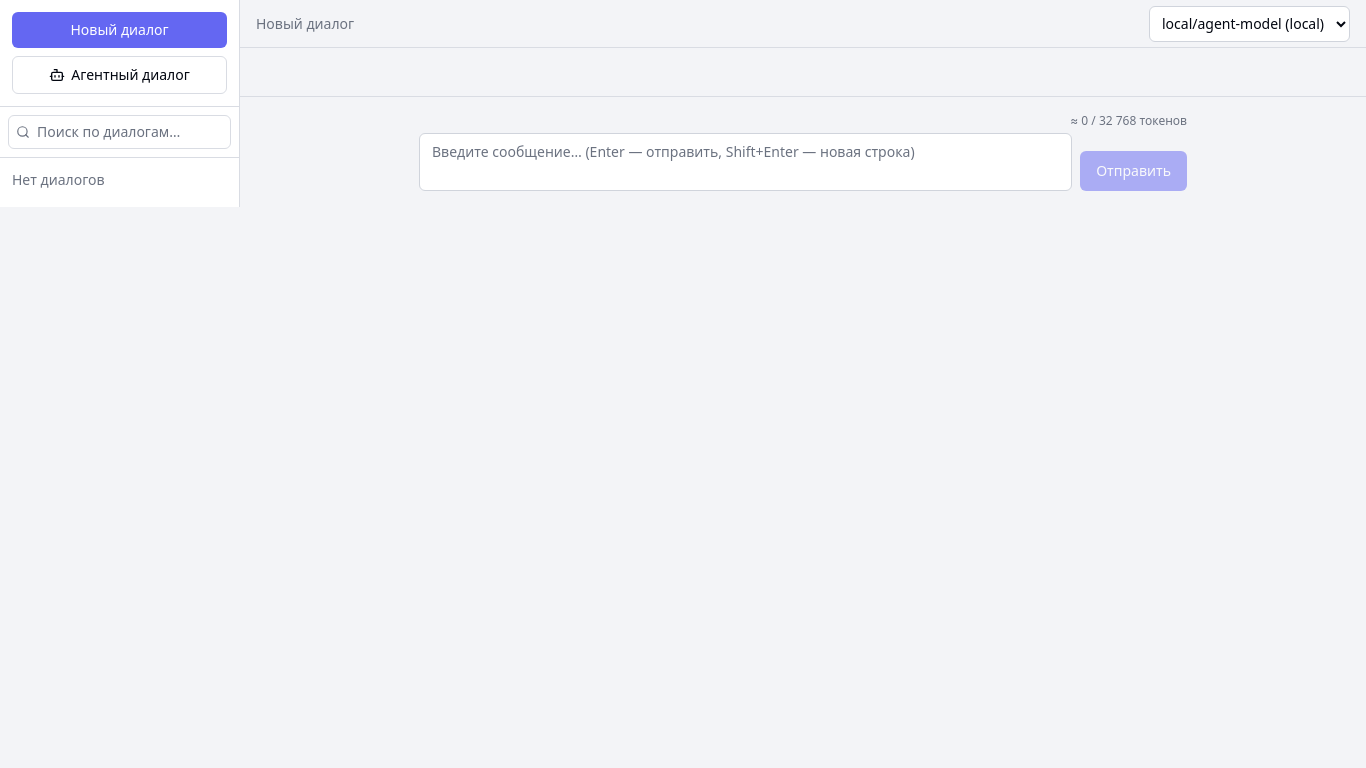
Scenario: Т-502: агентный диалог в ChatPage › отправка в агентном режиме вызывает агентный эндпоинт и показывает шаги
Click the button with test id "new-agent-chat".
click(120, 75)  # box [12,56,227,94]
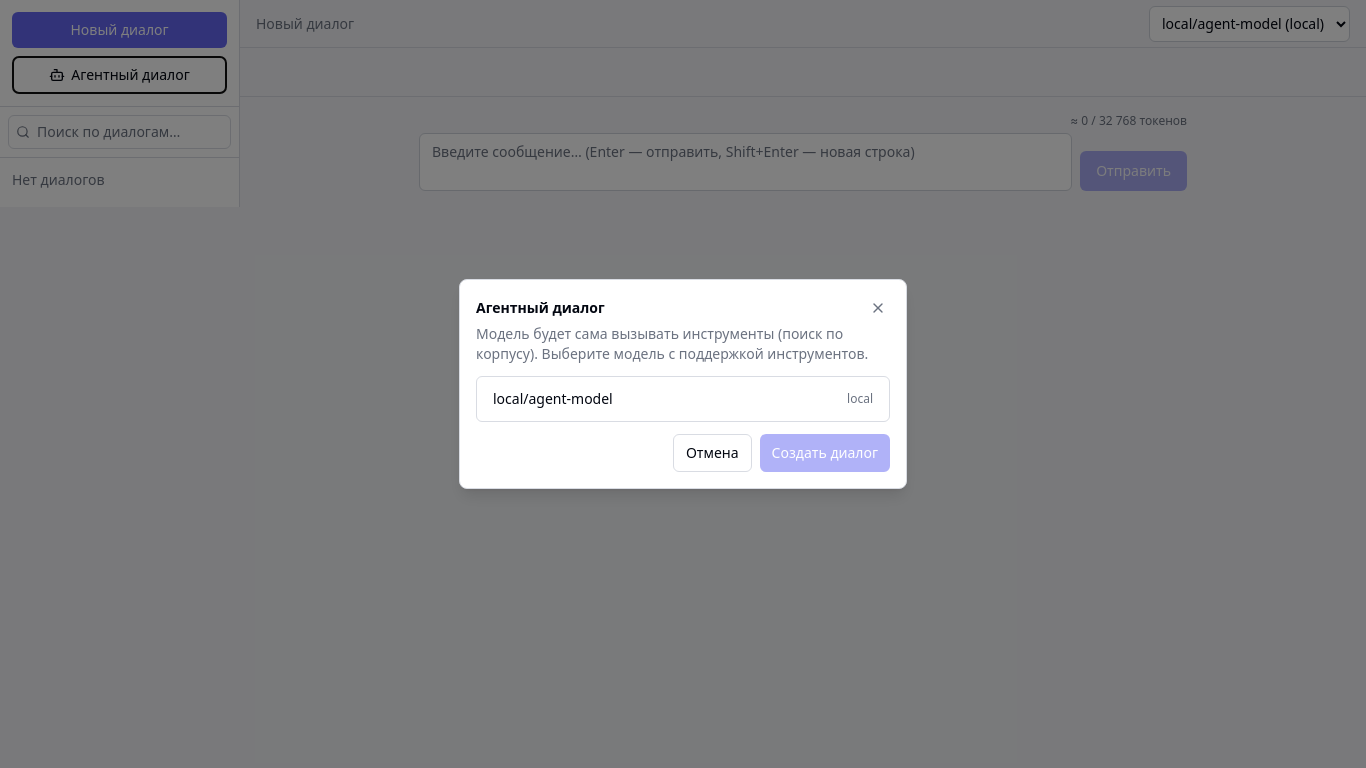
Click the text "local/agent-model".
click(553, 399)  # box [493,389,613,409]
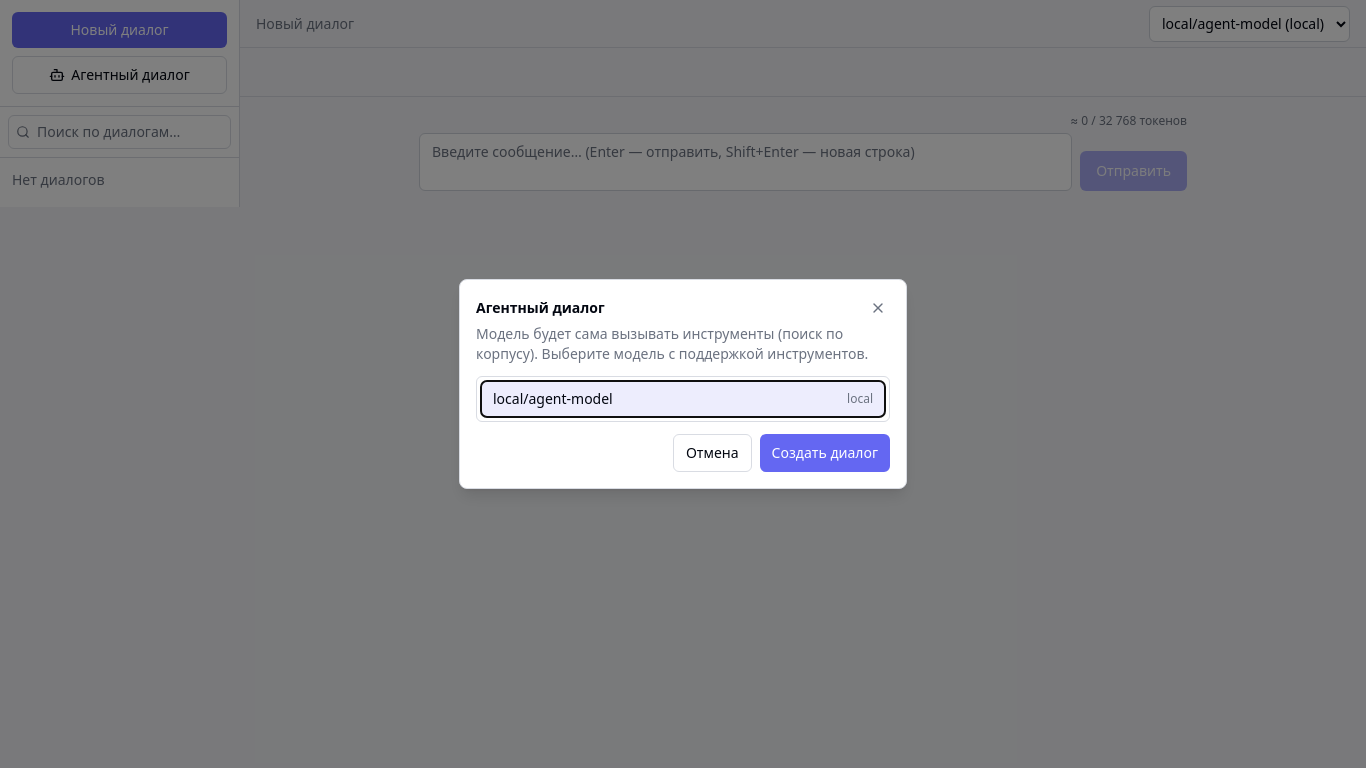
Click the button "Создать диалог".
click(825, 453)  # box [760,434,890,472]
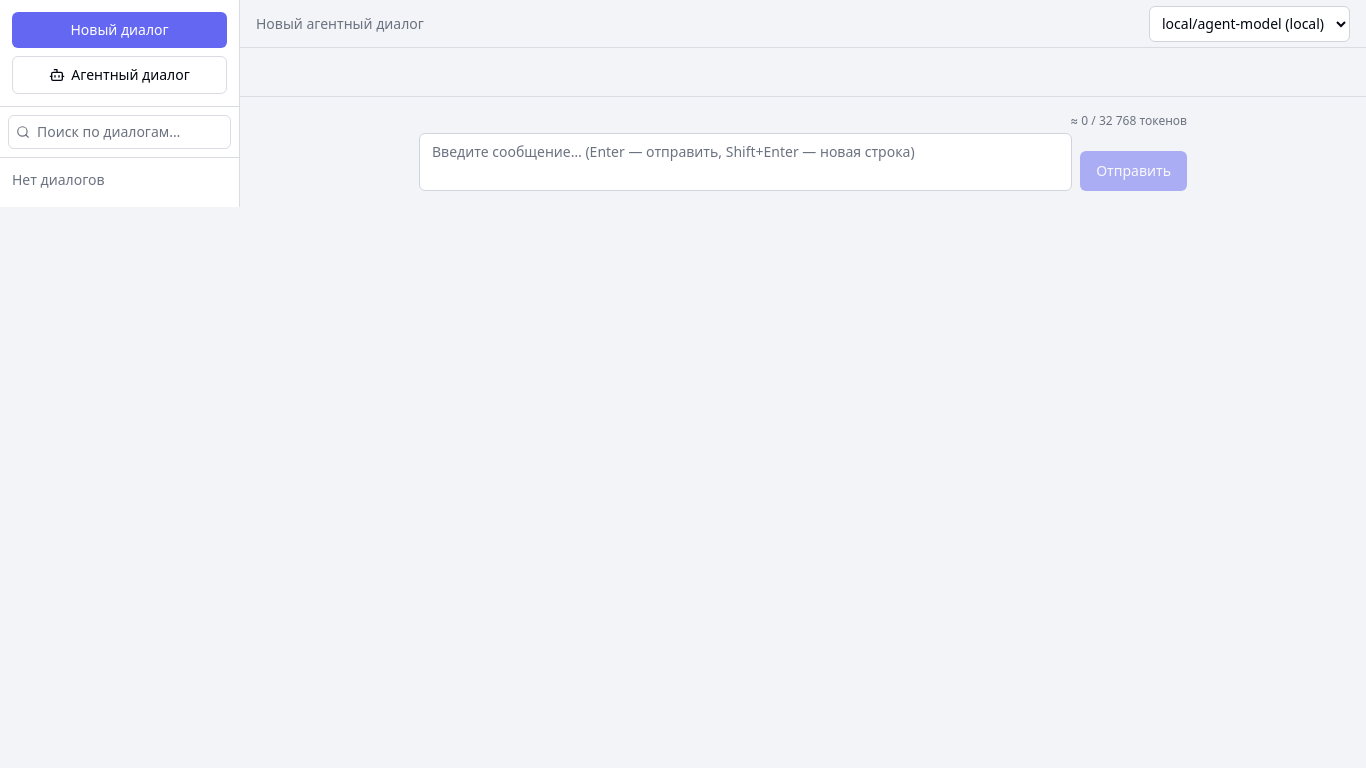
Result: the text "Новый агентный диалог" is shown at [256,14,424,32]
Type "Вопрос по корпусу" into the text box with placeholder "Введите сообщение".
click(746, 162); type("Вопрос по корпусу")  # box [419,133,1072,191]
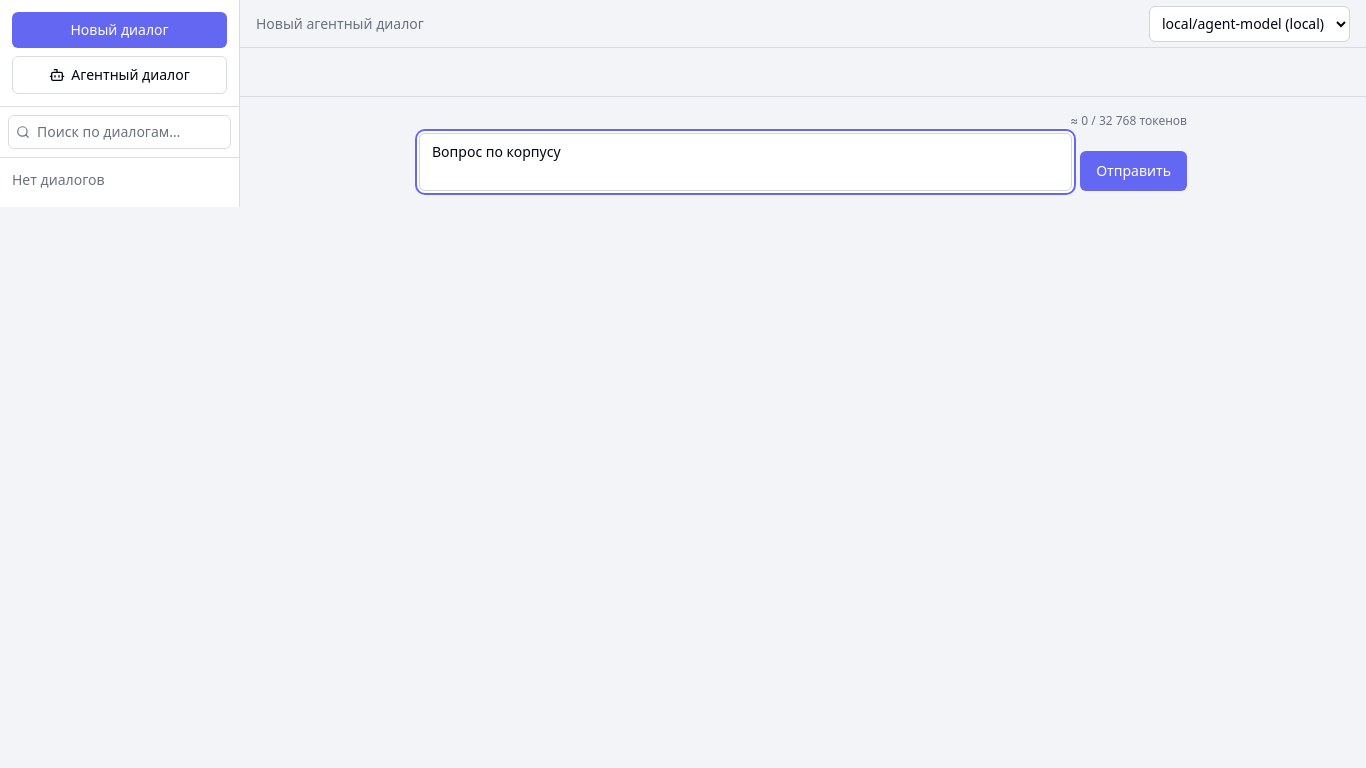
Click the button "Отправить".
click(1134, 171)  # box [1080,151,1187,191]
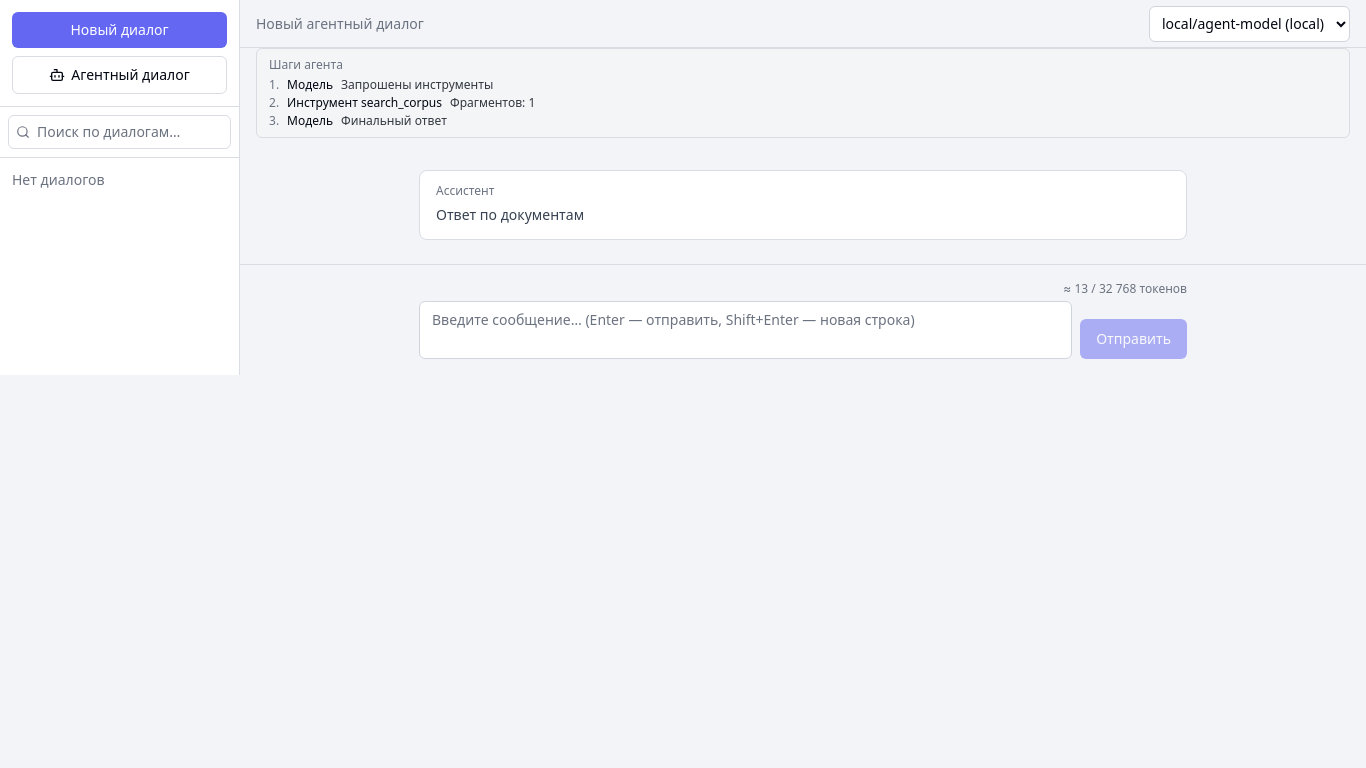
Result: the text "Ответ по документам" is shown at [436,205,584,224]
Result: the element with test id "agent-run-summary" is shown at [256,48,1350,138]
Result: the text "Фрагментов: 1" is shown at [450,95,535,111]
